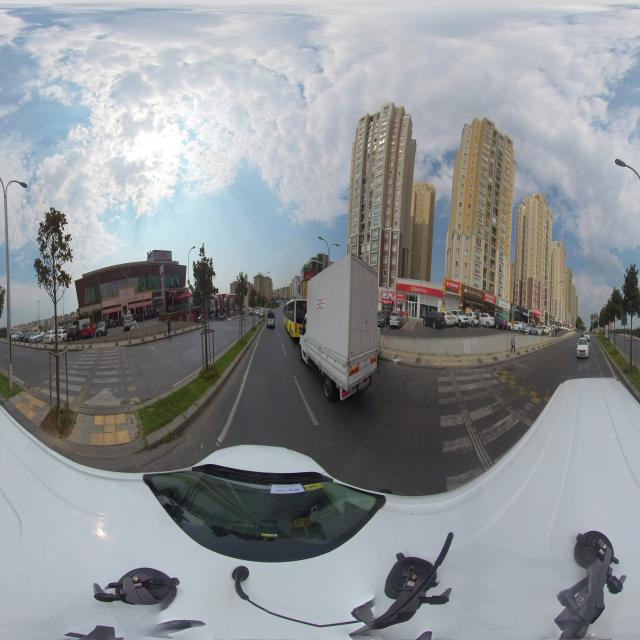SignStore: (464, 285, 482, 300), (409, 285, 427, 294), (445, 280, 460, 290), (485, 293, 496, 305), (497, 300, 510, 309), (383, 289, 393, 297), (522, 309, 529, 317), (533, 308, 540, 315), (153, 295, 161, 300), (515, 305, 519, 313), (529, 312, 533, 318), (542, 312, 545, 318), (545, 312, 548, 317), (555, 317, 558, 322), (549, 314, 552, 319), (552, 316, 555, 320)
